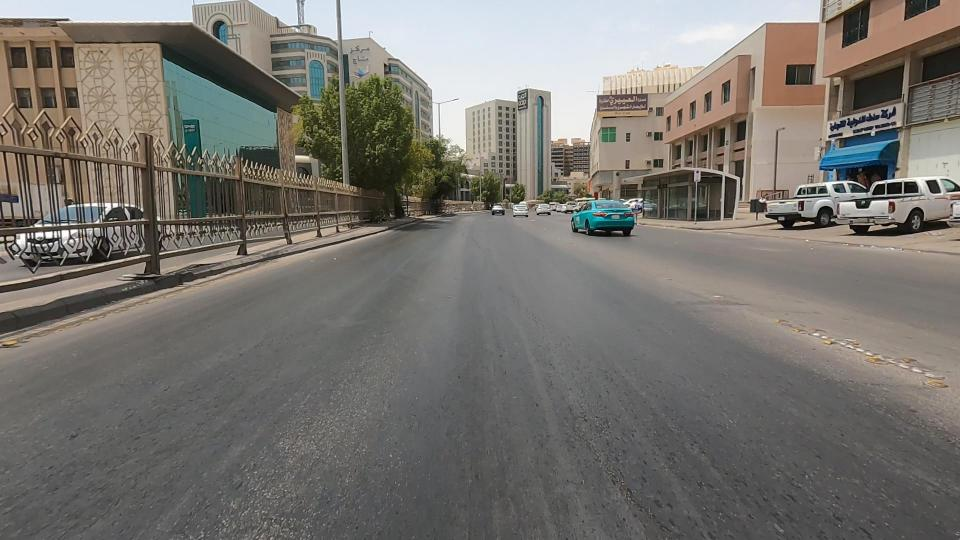BAD_BILLBOARD: (868, 56, 960, 135)
